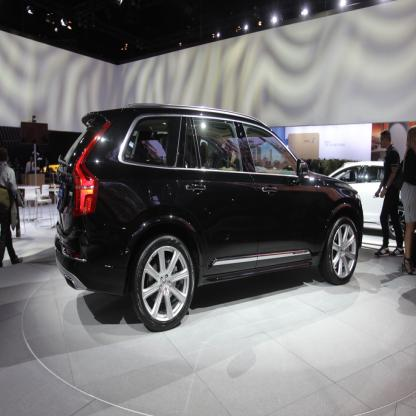Car: (54, 103, 364, 331)
